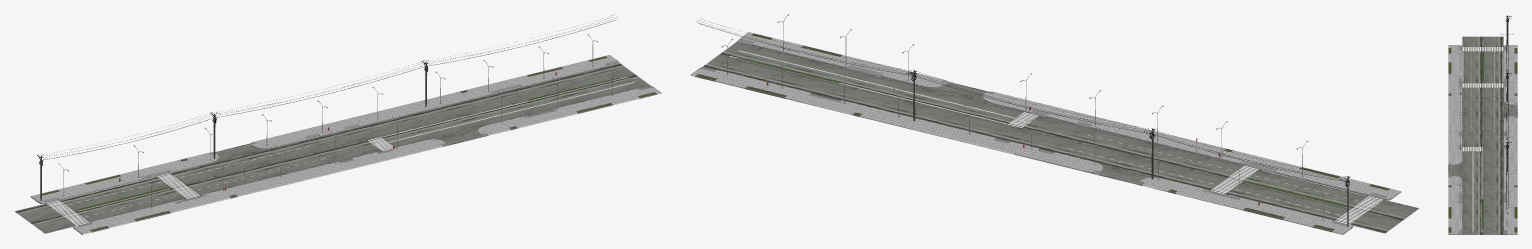
The model's file is road.glb.
3 views of the same model, side by side, from view 1: azimuth 30°, elevation 25°; view 2: azimuth 150°, elevation 25°; view 3: azimuth 270°, elevation 25° (orthographic). The views are drawn at different scales.
Visible parts, largest first — view 1: Material3 (×4), Material2 (×5); view 2: Material3 (×4), Material2 (×5); view 3: Material3 (×4), Material2 (×6).
Boxes of the visible parts, <box> form: Material3 (×4): <box>15,34,660,234</box>; Material2 (×5): <box>30,14,661,234</box>; Material3 (×4): <box>691,14,1418,234</box>; Material2 (×5): <box>690,20,1401,234</box>; Material3 (×4): <box>1448,16,1517,234</box>; Material2 (×6): <box>1448,16,1517,234</box>.
Size of the model in its own units: 54.02 by 4.12 by 7.99.
26 materials, 12 textured.
